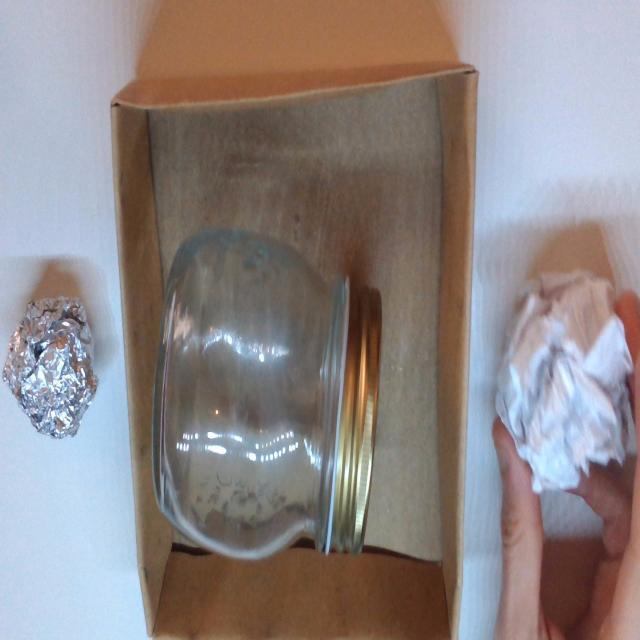Glass: (158, 230, 345, 554)
Paper: (494, 287, 631, 490)
